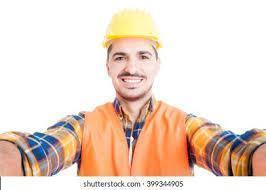helmet: (101, 8, 163, 49)
